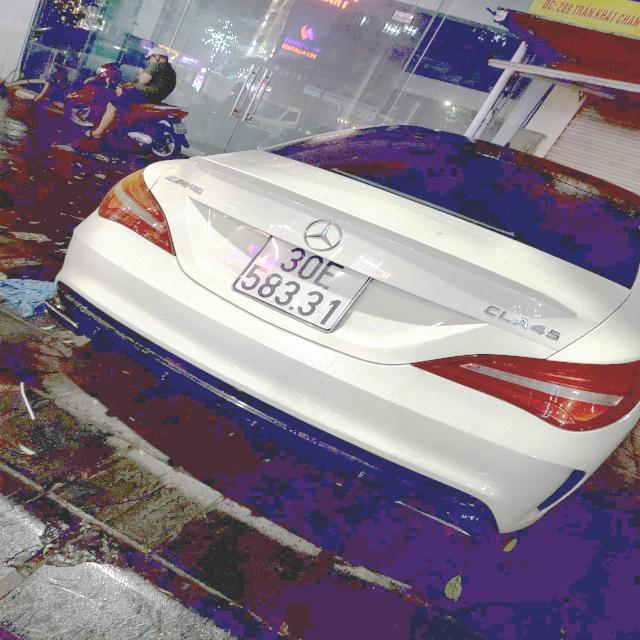license_plate: (224, 229, 383, 339)
